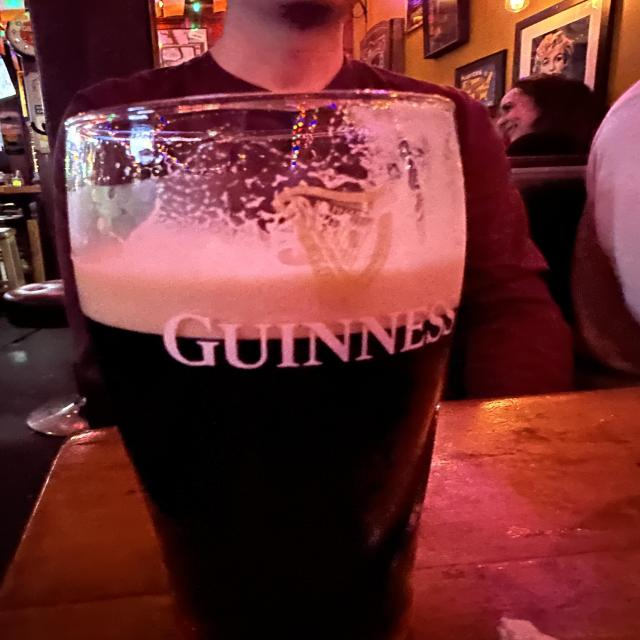split_guiness: (68, 90, 466, 640)
